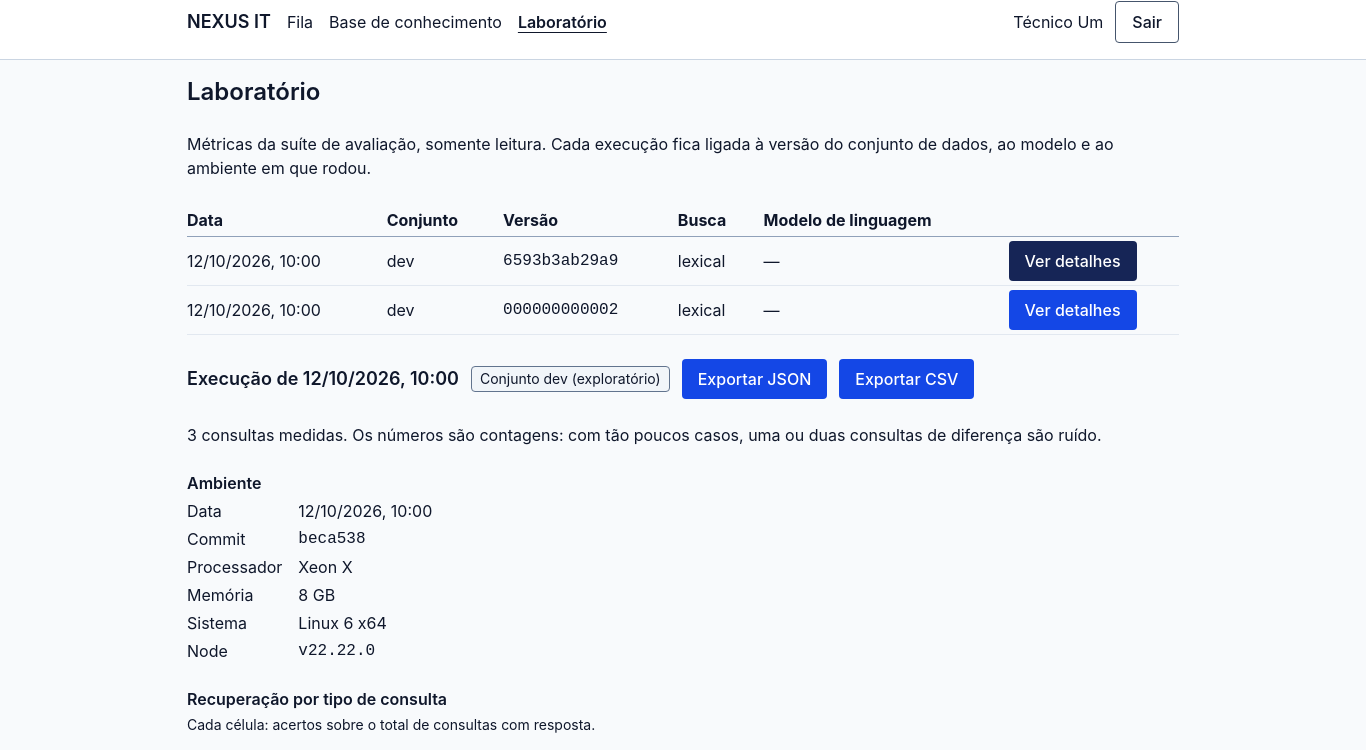
laboratório: detalhe da execução › escolher outra execução troca o detalhe
This screenshot has width=1366, height=750.
Click the button "Ver detalhes" in the row of "000000000002": {"x": 1073, "y": 310} [1009, 290, 1136, 330]
(page scrolled)
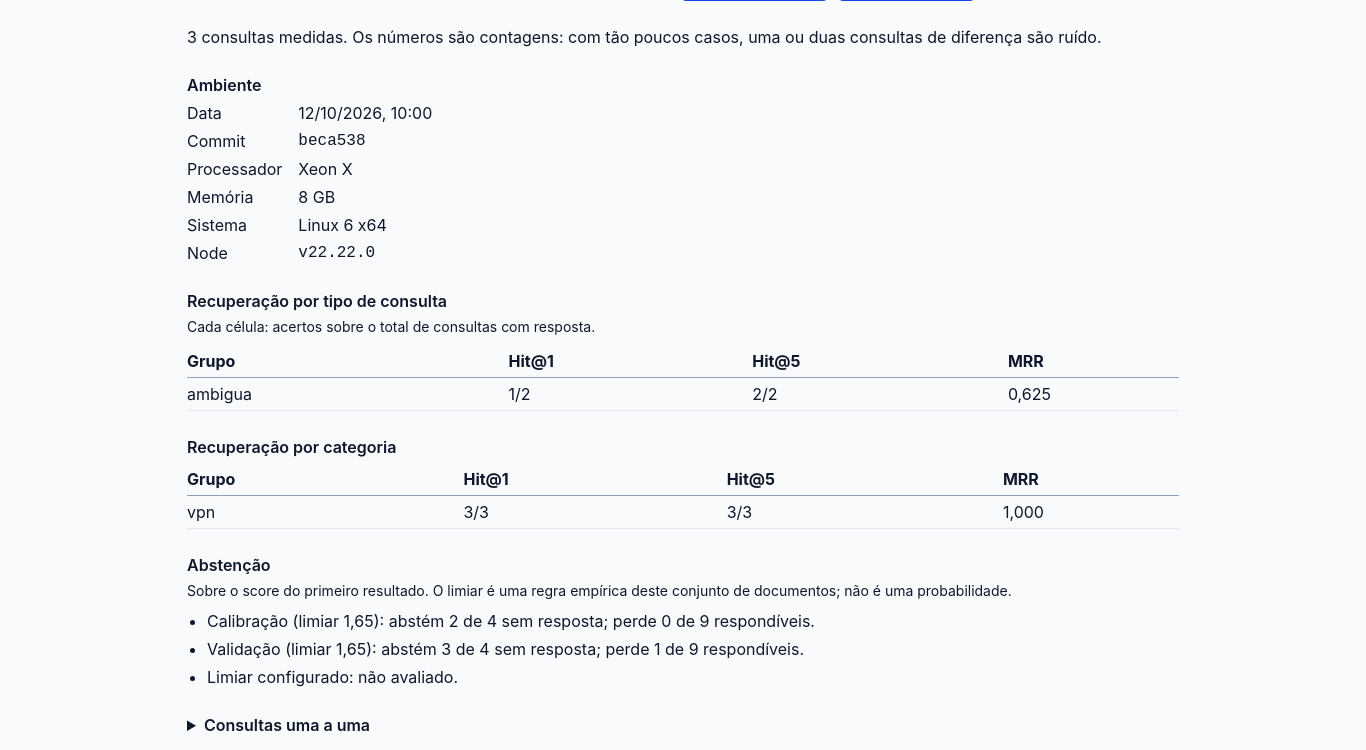
Check: the row "ambigua 1/2 2/2 0,625" is shown, box [187, 378, 1179, 410]
